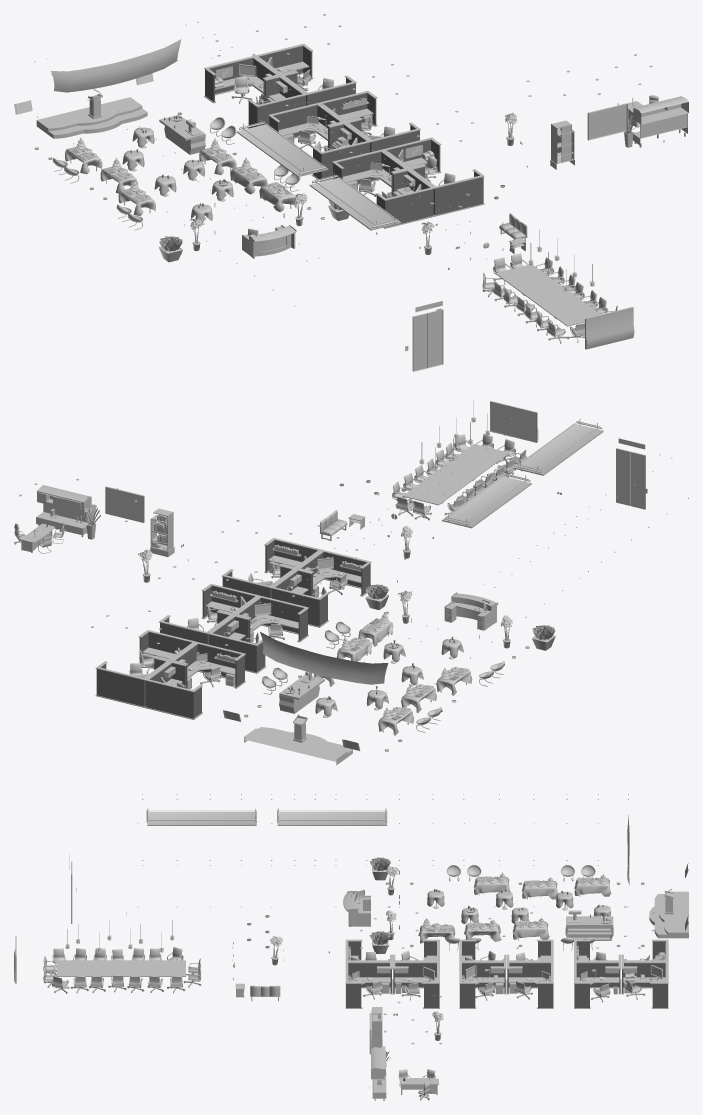
The model's file is Office_Props_06_07_12.FBX.
The picture shows the model from 3 angles, top to bottom: view 1: azimuth 30°, elevation 25°; view 2: azimuth 150°, elevation 25°; view 3: azimuth 270°, elevation 25°; orthographic projection. The views are drawn at different scales.
Parts seen in each view (by area): view 1: CubicleProps, ConferenceTables, FoyerProps, ConferenceProps, TerryProps; view 2: CubicleProps, ConferenceTables, FoyerProps, ConferenceProps, TerryProps; view 3: CubicleProps, ConferenceTables, FoyerProps, ConferenceProps, TerryProps.
Boxes of the visible parts, box(x1,y1,x2,y2) form: CubicleProps: box(204, 14, 484, 228); ConferenceTables: box(36, 39, 296, 225); FoyerProps: box(14, 21, 486, 371); ConferenceProps: box(419, 185, 634, 349); TerryProps: box(505, 54, 688, 169); CubicleProps: box(91, 515, 371, 719); ConferenceTables: box(244, 612, 472, 765); FoyerProps: box(223, 418, 688, 751); ConferenceProps: box(319, 400, 538, 559); TerryProps: box(14, 478, 188, 582); CubicleProps: box(345, 906, 668, 1008); ConferenceTables: box(418, 815, 688, 943); FoyerProps: box(69, 794, 688, 953); ConferenceProps: box(14, 915, 283, 1001); TerryProps: box(369, 990, 443, 1100).
Size of the model in its own units: 33.63 by 7.2 by 41.94.
